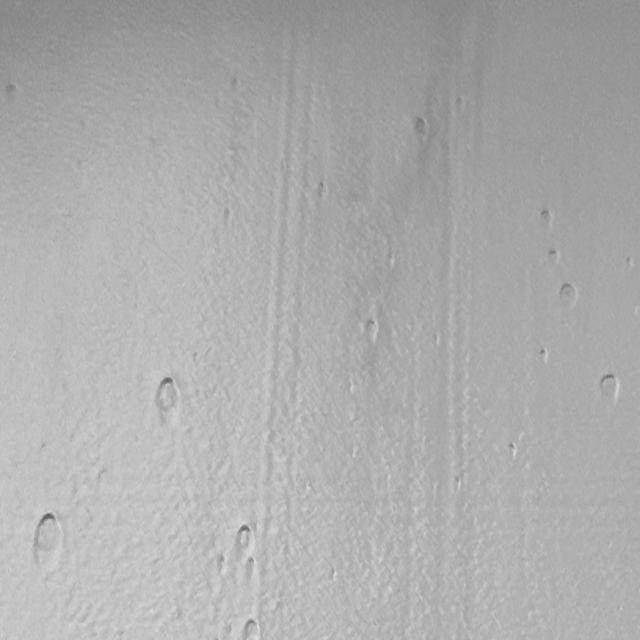pin holes: (26, 508, 68, 574), (153, 374, 186, 428), (594, 372, 621, 407), (232, 525, 257, 556), (556, 280, 581, 310), (360, 316, 381, 344), (411, 114, 432, 141), (240, 616, 262, 640), (536, 208, 555, 235), (2, 82, 22, 105), (451, 93, 469, 118), (312, 181, 330, 205), (545, 248, 563, 270), (246, 556, 257, 592), (216, 551, 230, 577), (537, 346, 552, 365), (453, 474, 466, 494), (506, 441, 520, 459), (623, 255, 636, 272)
